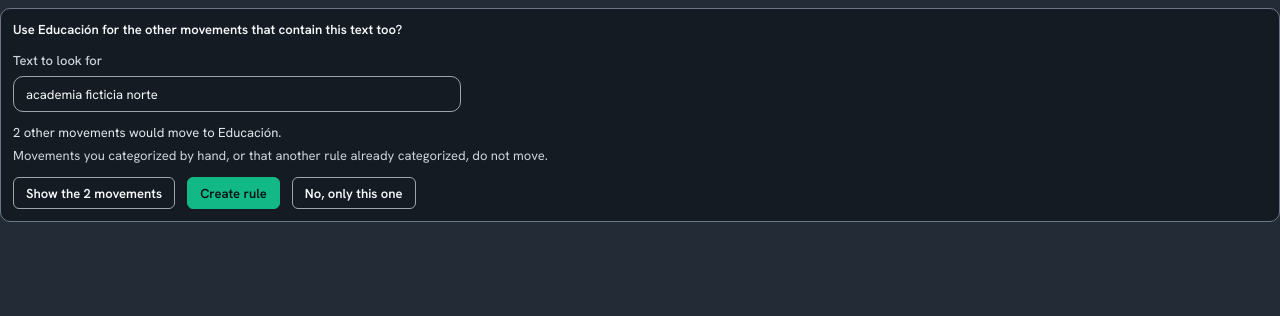
Test case: OtherMovementsQuestion (feature 34) › shows how many other movements would move and lists them before anything is created
Expected: the text with test id "other-movements-headline" reads "Use Educación for the other movements that contain this text too?", [13,21,402,38]
Expected: the field labelled "Text to look for" holds "academia ficticia norte", [13,76,461,112]
Click the button with test id "other-movements-show": (94, 193) [13,177,175,209]
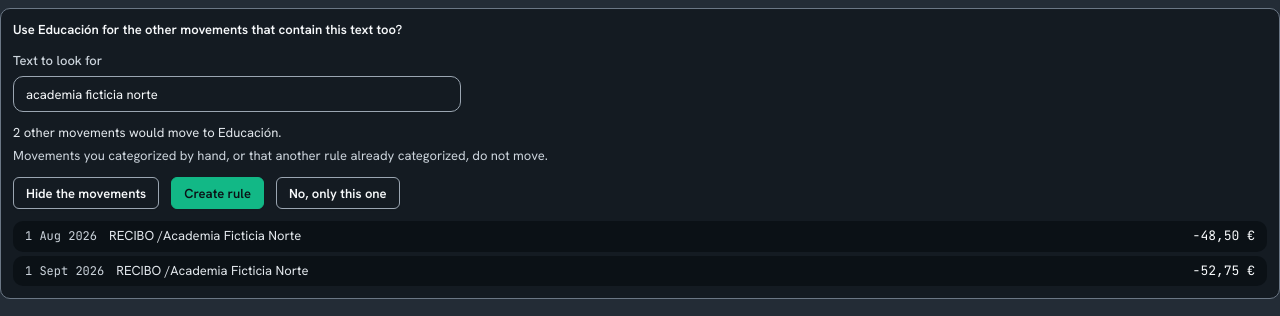
Expected: the number of list items with test id "other-movements-item" is 2, [13,221,1267,252]; [13,256,1267,286]
Expected: the list item with test id "other-movements-item" shows "RECIBO /Academia Ficticia Norte", [109,227,301,244]
Expected: the button with test id "other-movements-show" reads "Hide the movements", [13,177,159,209]
